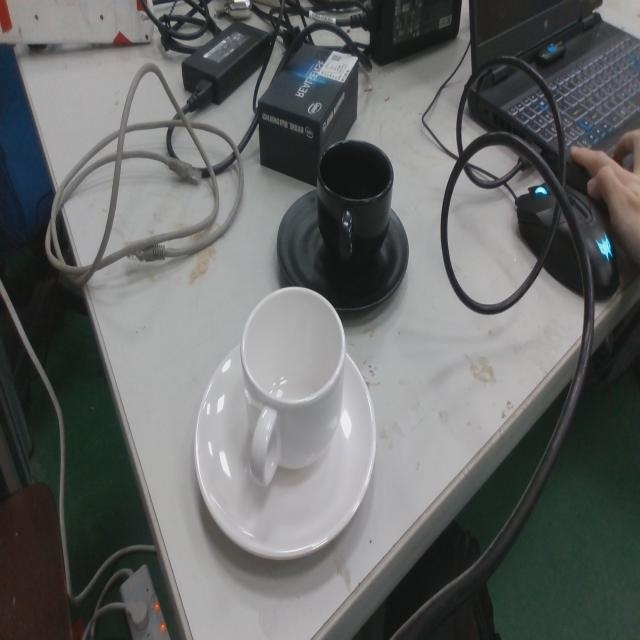black: (275, 136, 411, 316)
white: (191, 282, 379, 567)
